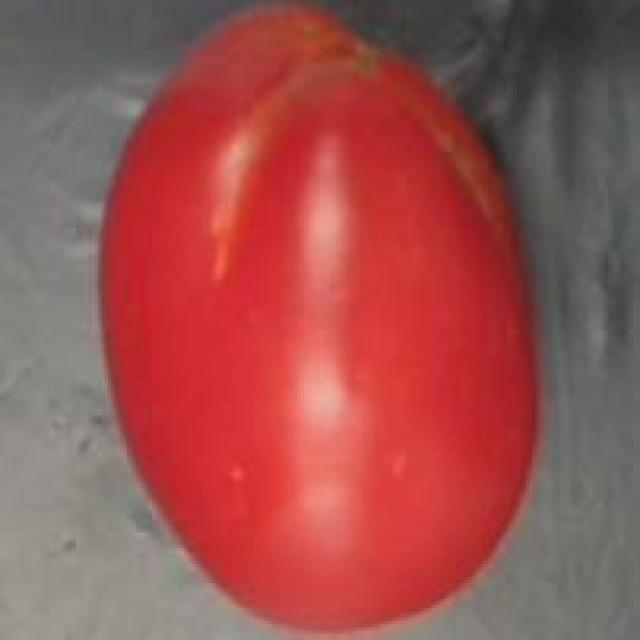overripe tomato: (88, 0, 558, 640)
